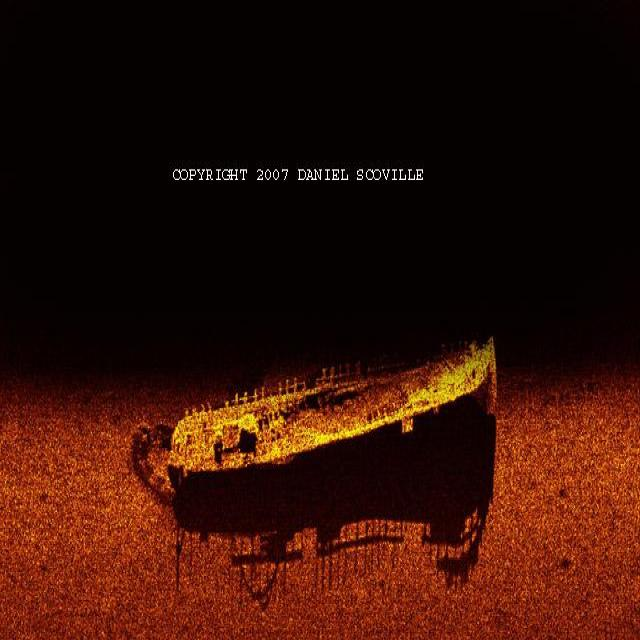ship: (161, 334, 503, 486)
